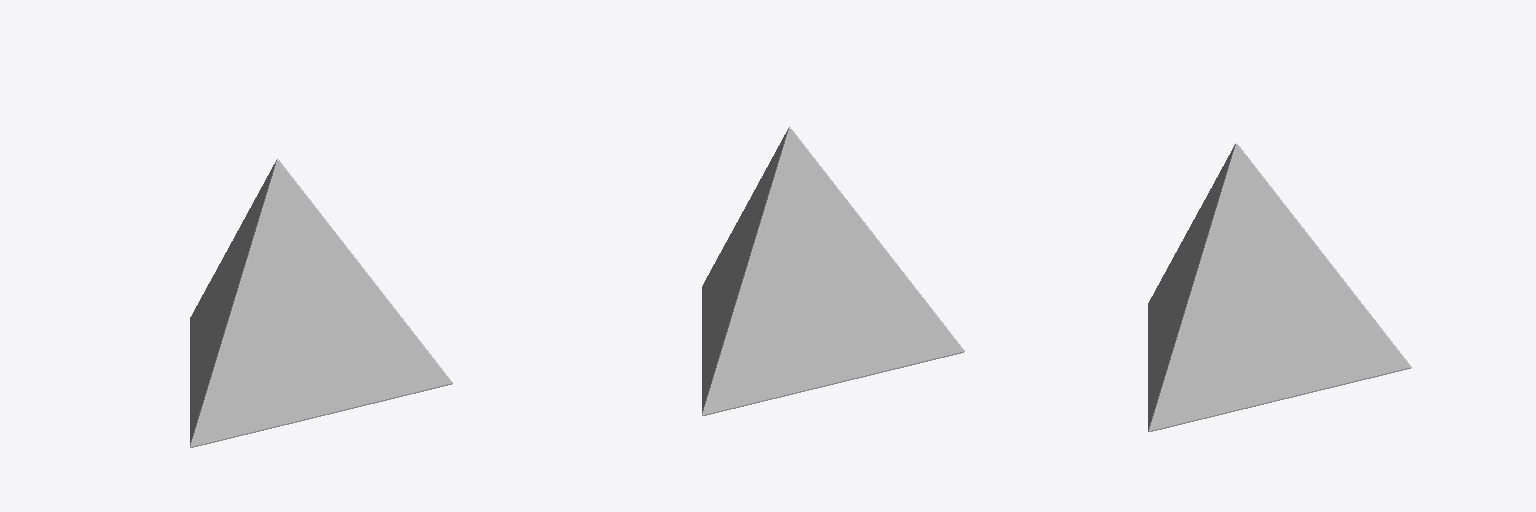
The picture shows the model from 3 angles: view 1: azimuth 30°, elevation 25°; view 2: azimuth 150°, elevation 25°; view 3: azimuth 270°, elevation 25°; orthographic projection.
Parts seen in each view (by area): view 1: Triangular_Pyramid_2In.003; view 2: Triangular_Pyramid_2In.003; view 3: Triangular_Pyramid_2In.003.
Boxes of the visible parts, x1,y1,x2,y2 form: Triangular_Pyramid_2In.003: [190, 159, 452, 447]; Triangular_Pyramid_2In.003: [702, 127, 964, 415]; Triangular_Pyramid_2In.003: [1148, 143, 1411, 431].
Bounding box in the file's own units: 0.7047 × 0.5776 × 0.6118.